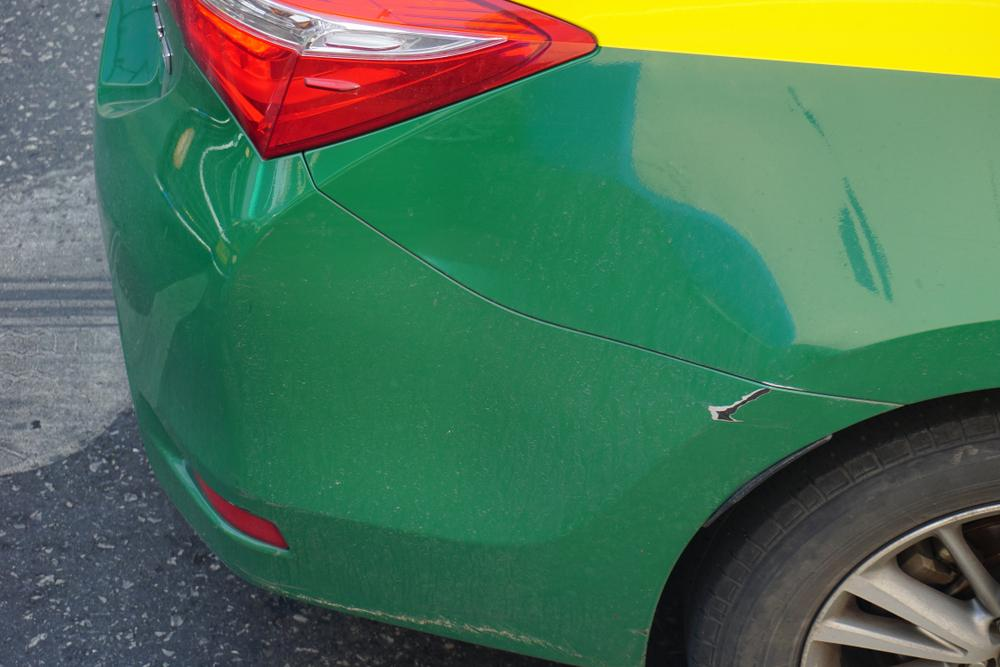scratch: (707, 386, 781, 424)
